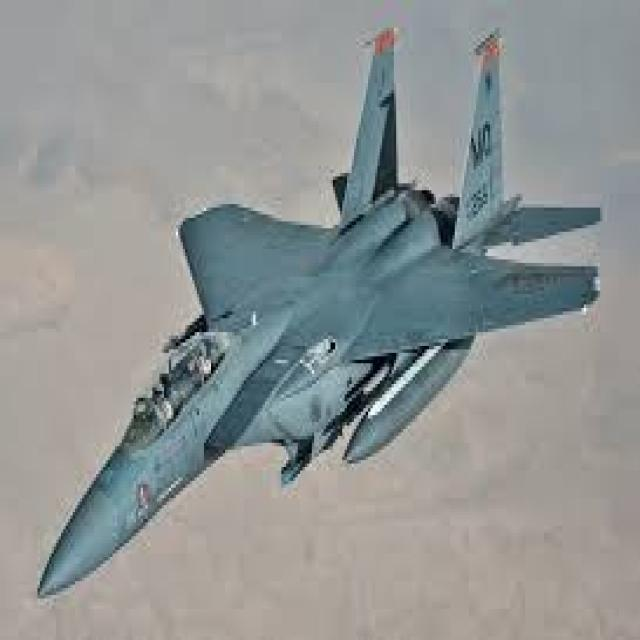F15: (30, 28, 640, 595)
